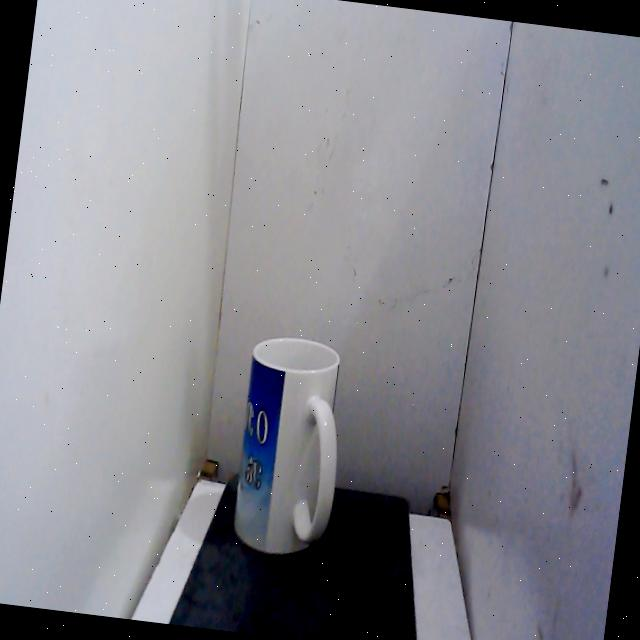vidro: (219, 326, 359, 574)
